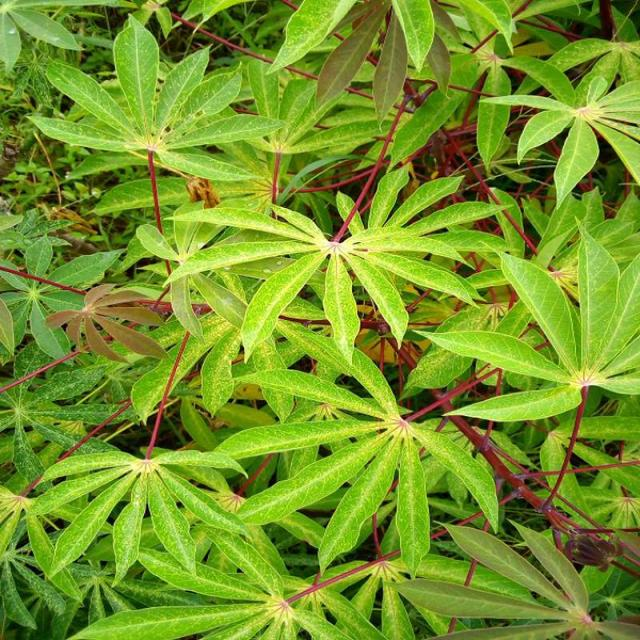cassava leaf: (1, 2, 638, 637), (210, 320, 500, 579), (157, 161, 518, 368)
